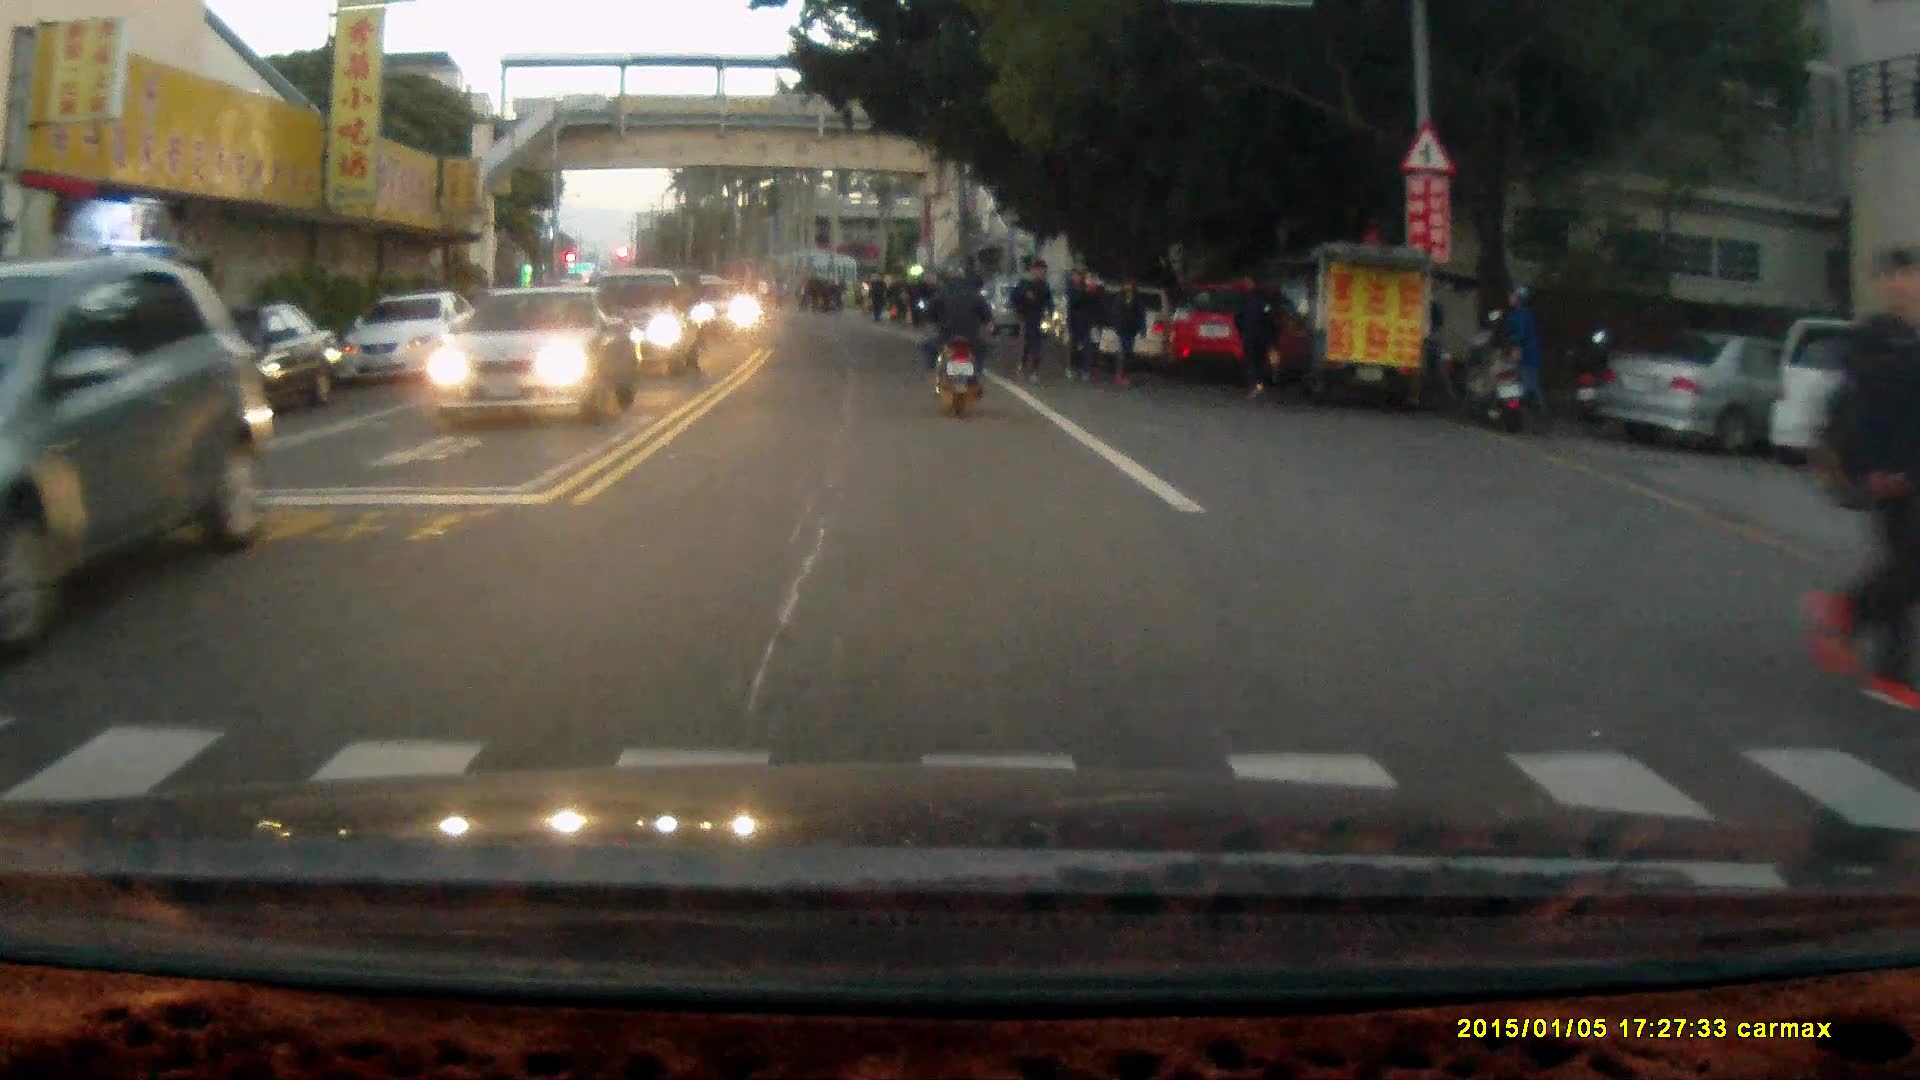pedestrian: (1801, 247, 1920, 715), (1225, 265, 1283, 410), (1496, 285, 1550, 434), (1006, 258, 1059, 386), (1106, 270, 1147, 388), (1059, 266, 1095, 390)
rider: (915, 261, 995, 421)
vehicle: (1, 253, 276, 665), (1590, 326, 1896, 463), (425, 291, 636, 430), (1163, 288, 1313, 392), (588, 273, 706, 382)
